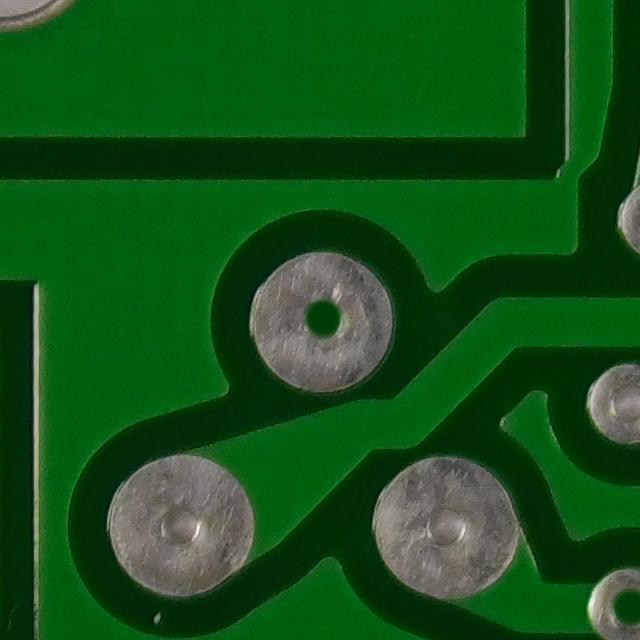missing_hole: (256, 266, 385, 375)
